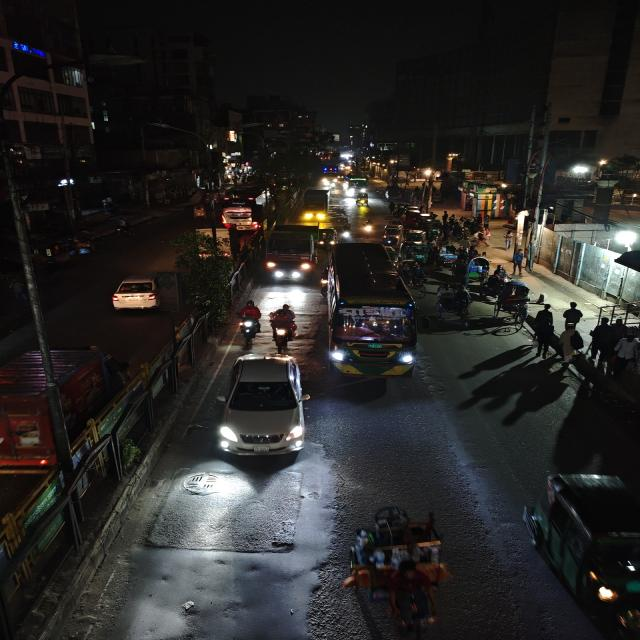bicycle: (267, 302, 299, 352)
bus: (320, 239, 420, 380), (346, 176, 369, 195)
car: (217, 352, 313, 466), (108, 269, 166, 315), (218, 199, 263, 229)
cng: (541, 468, 640, 608), (39, 236, 73, 268), (67, 230, 99, 260), (402, 240, 429, 262), (316, 225, 338, 247), (382, 224, 402, 246)
motorcycle: (266, 302, 300, 351), (234, 299, 263, 345), (111, 216, 133, 238), (190, 201, 210, 219), (362, 217, 376, 237), (355, 196, 370, 210)
pedestrian: (587, 317, 612, 371), (562, 300, 585, 328), (534, 305, 554, 337), (566, 329, 586, 357), (628, 334, 640, 373), (510, 247, 526, 275), (495, 264, 510, 285), (533, 291, 550, 307)
rickshaw: (344, 500, 456, 638), (432, 283, 476, 325), (68, 229, 99, 259), (464, 256, 490, 282), (436, 242, 460, 270)
truck: (0, 343, 127, 479), (265, 223, 319, 283), (300, 187, 330, 223)
